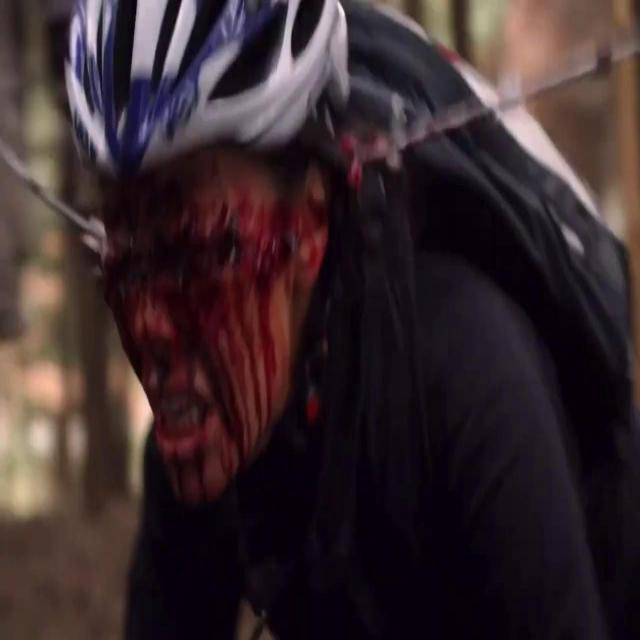flood: (91, 180, 298, 512)
